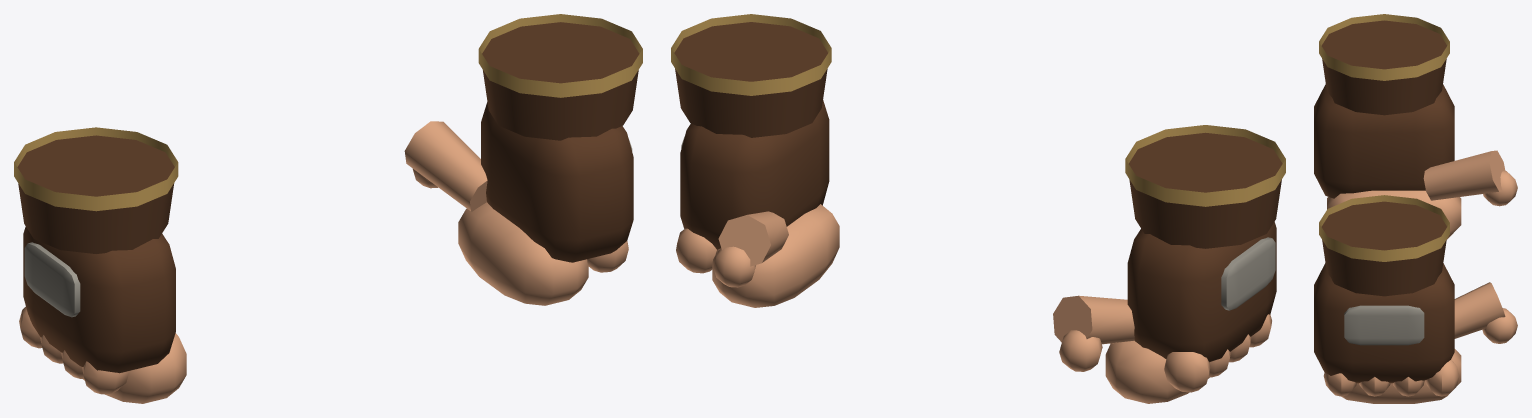
Rendered from hero_hands.glb.
The picture shows the model from 3 angles, left to right: view 1: azimuth 30°, elevation 25°; view 2: azimuth 150°, elevation 25°; view 3: azimuth 270°, elevation 25°; orthographic projection. The views are drawn at different scales.
Visible parts, largest first — view 1: Glove.R, Glove.L; view 2: Glove.L, Glove.R; view 3: Glove.R, Glove.L.
Part boxes in pixels (x1,y1,x2,y2): Glove.R: [404, 14, 642, 305]; Glove.L: [14, 127, 186, 403]; Glove.L: [1053, 125, 1285, 403]; Glove.R: [671, 14, 839, 307]; Glove.R: [1314, 195, 1517, 403]; Glove.L: [1314, 14, 1517, 239].
Bounding box in the file's own units: 0.35 × 0.129 × 0.1275.
